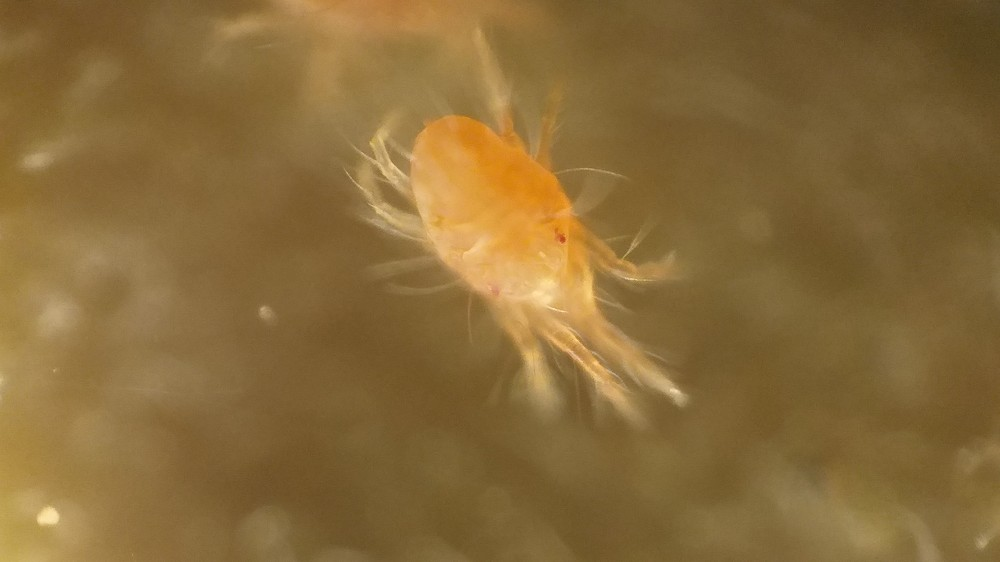Aracnido Rojo: (317, 62, 754, 462)
